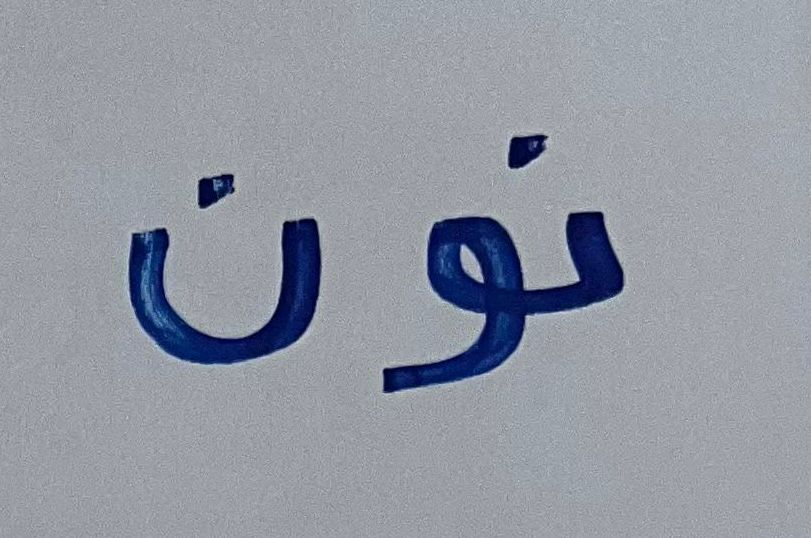noon: (117, 162, 335, 382)
teh: (503, 115, 644, 330)
waw: (376, 200, 501, 401)
